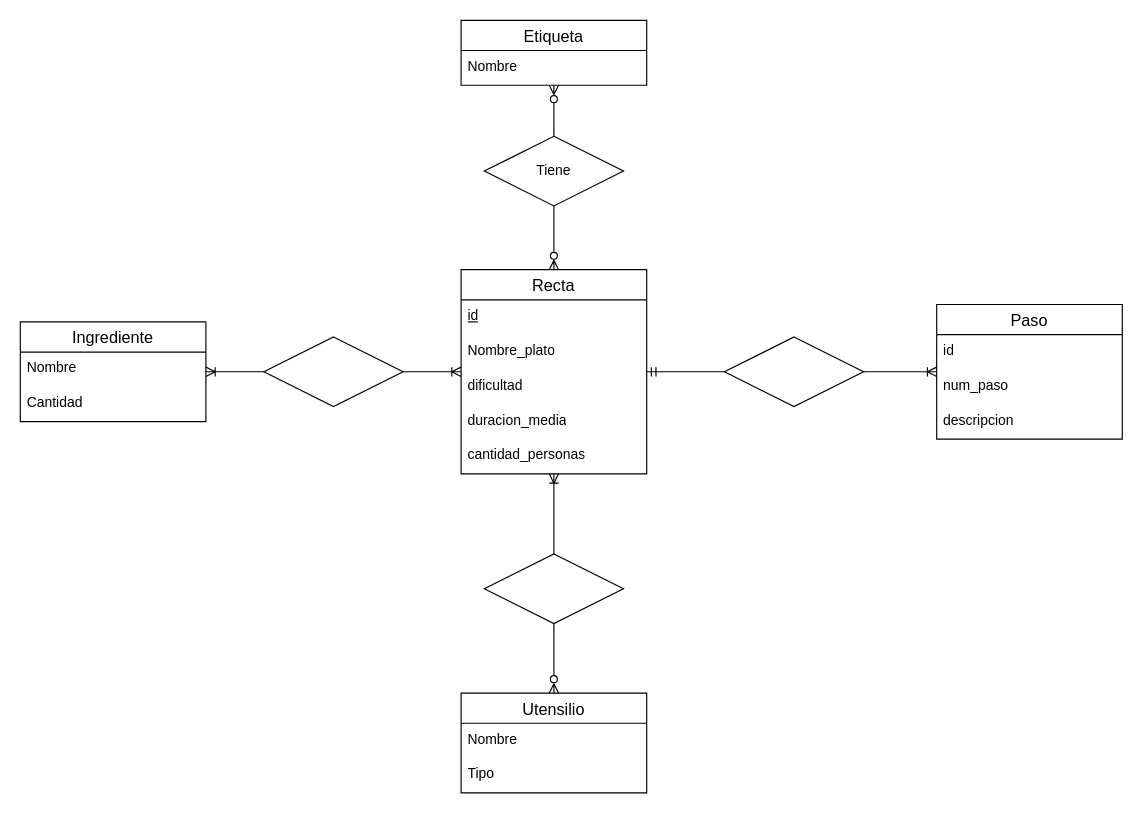
This 1143x817 diagram has some shape labels left out. The centre of each missing label's shape, as x and y in pixels:
Describe: (x=793, y=371)
Requiere: (x=333, y=371)
Utiliza: (x=553, y=588)
